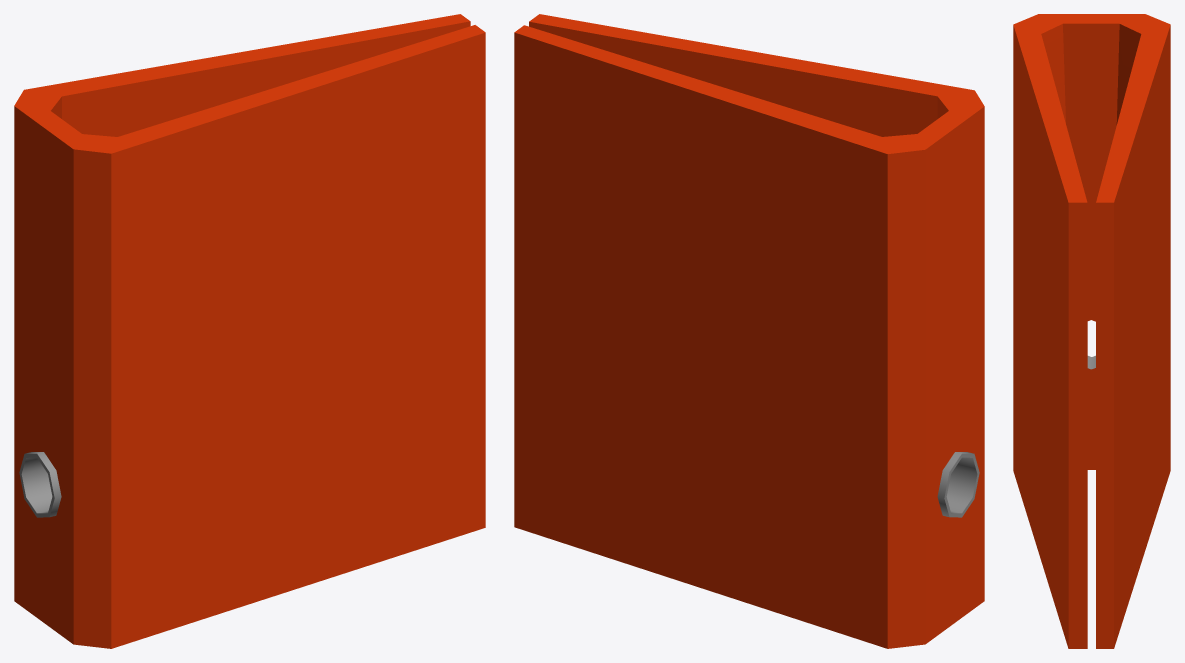
Rendered from Binder.fbx.
The picture shows the model from 3 angles, left to right: view 1: azimuth 30°, elevation 25°; view 2: azimuth 150°, elevation 25°; view 3: azimuth 270°, elevation 25°; orthographic projection. The views are drawn at different scales.
Visible parts, largest first — view 1: Binder; view 2: Binder; view 3: Binder.
Boxes of the visible parts, bbox=[...] form: Binder: bbox=[14, 14, 485, 648]; Binder: bbox=[514, 14, 984, 648]; Binder: bbox=[1013, 14, 1170, 648].
Size of the model in its own units: 55.41 by 60.17 by 19.23.
